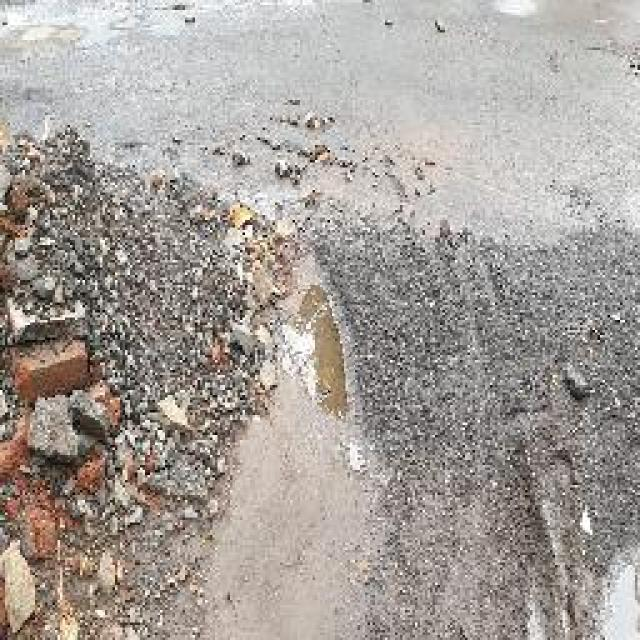puddle: (286, 287, 357, 422)
